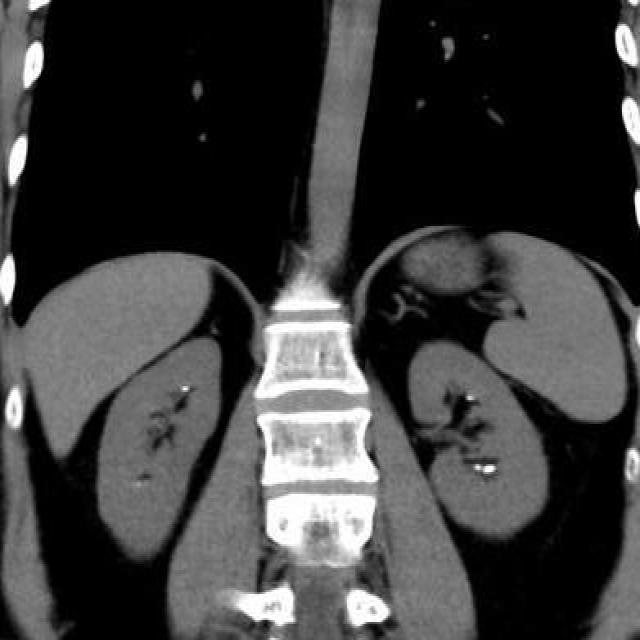Tas_Var: (131, 478, 149, 492), (178, 383, 196, 393), (483, 464, 496, 474), (465, 393, 475, 405), (474, 463, 482, 473)
